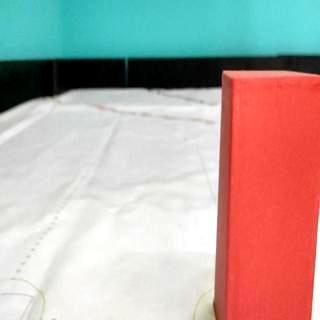redbox: (210, 69, 320, 320)
